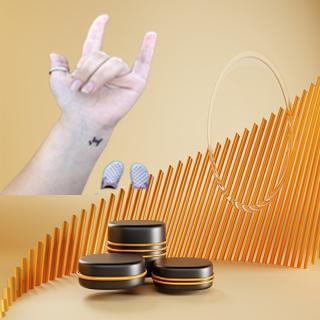ILY: (41, 10, 161, 129)
